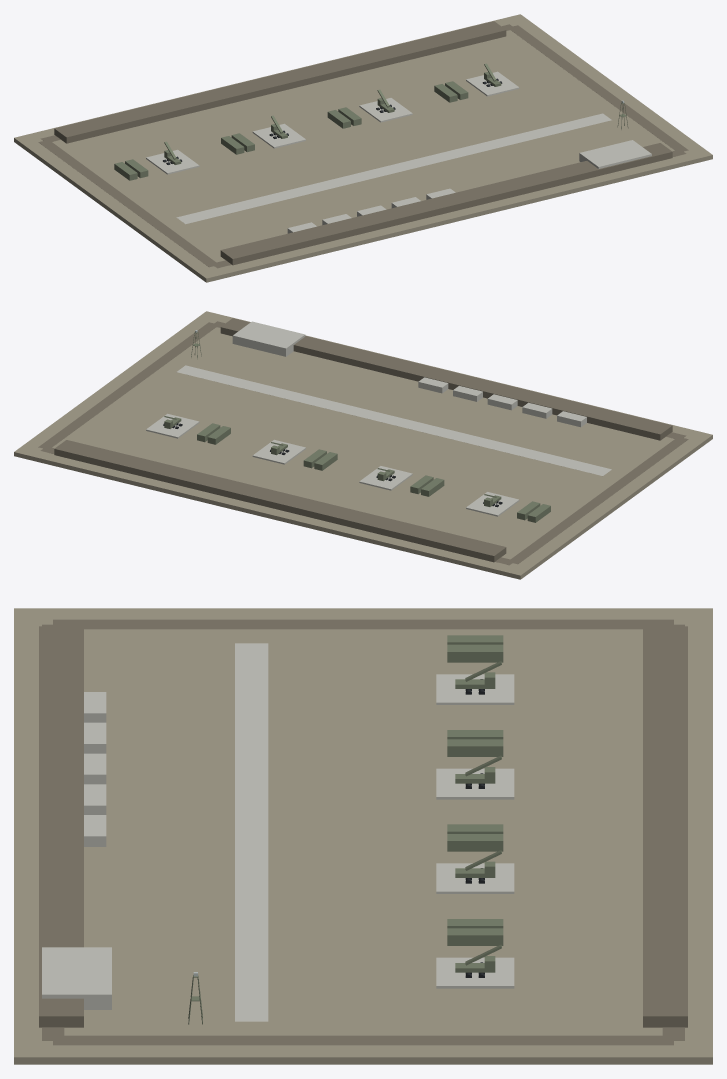
The model's file is irn_drone_site_shahed.glb.
3 renders of one model, top to bottom at view 1: azimuth 30°, elevation 25°; view 2: azimuth 150°, elevation 25°; view 3: azimuth 270°, elevation 25°, orthographic. The views are drawn at different scales.
Parts seen in each view (by area): view 1: earth, earth_dark, concrete, drab; view 2: earth, earth_dark, concrete, drab; view 3: earth, earth_dark, concrete, drab.
Part boxes in pixels (bbox=[...]): earth: bbox=[14, 14, 712, 282]; earth_dark: bbox=[38, 21, 688, 268]; concrete: bbox=[146, 71, 651, 233]; drab: bbox=[114, 63, 628, 180]; earth: bbox=[14, 311, 712, 579]; earth_dark: bbox=[38, 318, 688, 565]; concrete: bbox=[146, 321, 611, 516]; drab: bbox=[164, 332, 550, 522]; earth: bbox=[14, 608, 712, 1064]; earth_dark: bbox=[39, 619, 687, 1045]; concrete: bbox=[42, 643, 514, 1021]; drab: bbox=[188, 635, 503, 1024].
Bounding box in the file's own units: 10 × 0.5895 × 6.58.
